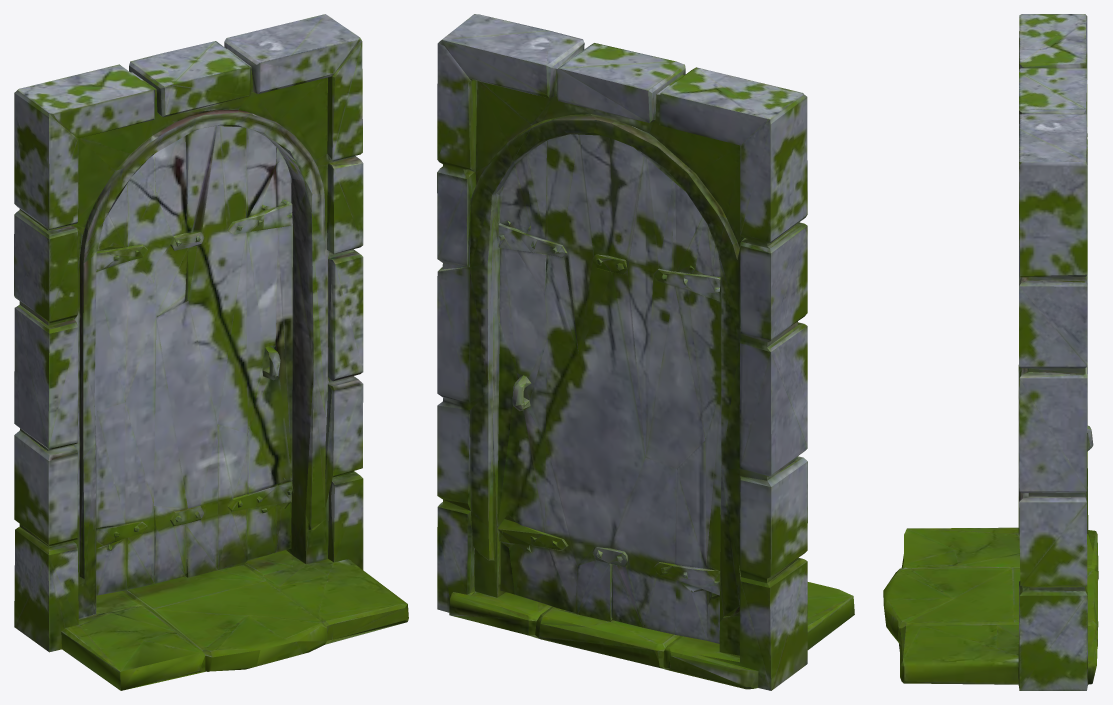
File: door_jungle.glb
3 views of the same model, side by side, from view 1: azimuth 30°, elevation 25°; view 2: azimuth 150°, elevation 25°; view 3: azimuth 270°, elevation 25° (orthographic). The views are drawn at different scales.
Size of the model in its own units: 1.16 by 1.9 by 0.7016.
Materials: 1 (1 with a texture image).
